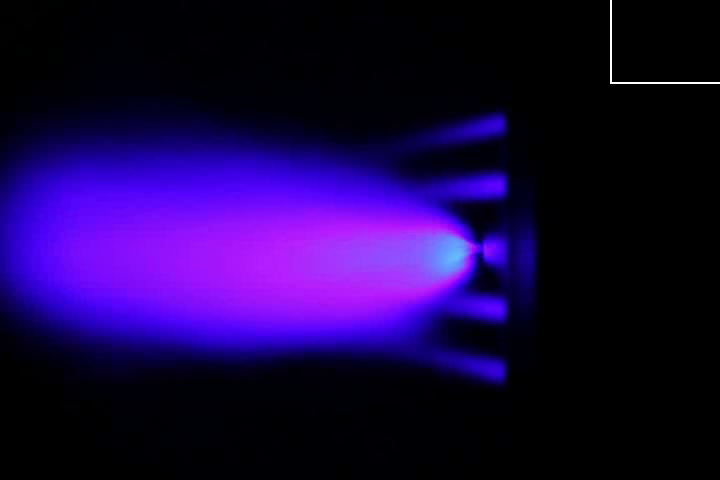burner cap: (483, 235, 507, 269)
pilot flame: (399, 340, 506, 385), (397, 111, 506, 141), (413, 168, 507, 202), (440, 285, 509, 325)
stable: (226, 196, 482, 309)
